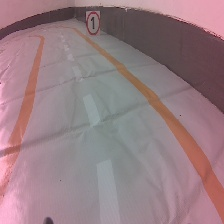limit: (84, 8, 104, 39)
